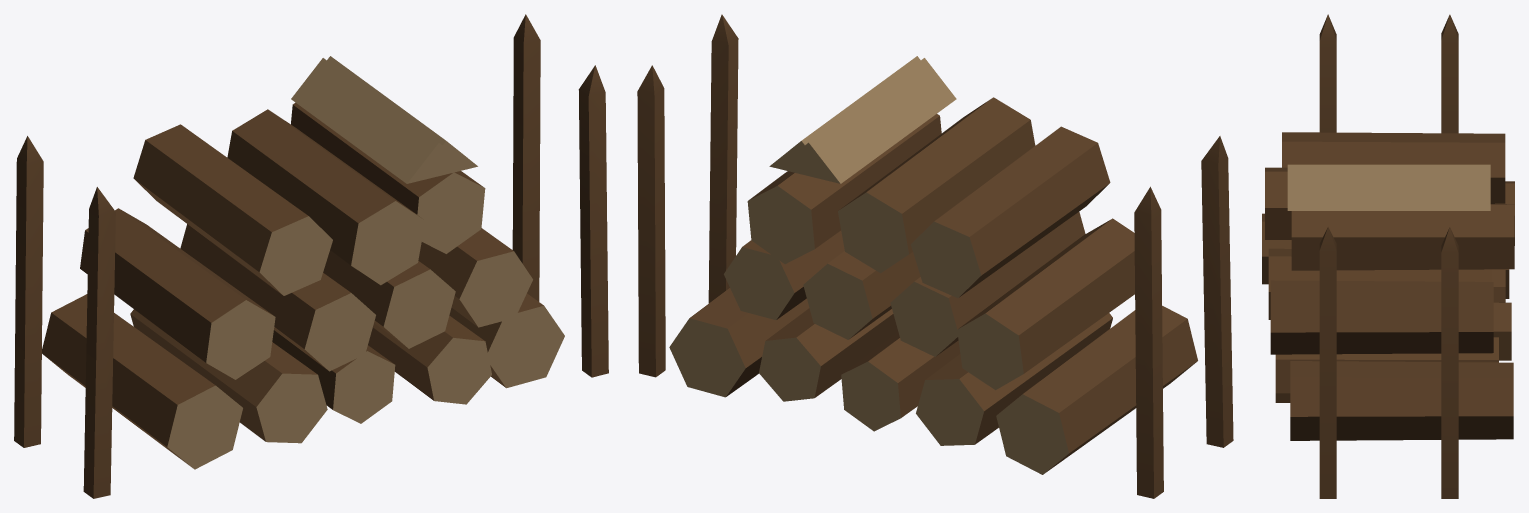
File: Woodpile.fbx
3 renders of one model, left to right at view 1: azimuth 30°, elevation 25°; view 2: azimuth 150°, elevation 25°; view 3: azimuth 270°, elevation 25°, orthographic. The views are drawn at different scales.
Parts seen in each view (by area): view 1: Woodpile; view 2: Woodpile; view 3: Woodpile.
Part boxes in pixels (x1,y1,x2,y2): Woodpile: (14,14,608,498); Woodpile: (637,14,1233,498); Woodpile: (1262,14,1514,498).
Size of the model in its own units: 1.29 by 0.7304 by 0.6228.
